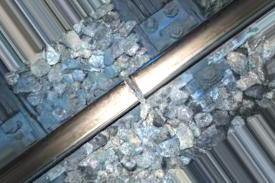tracks_fault: (109, 60, 154, 119)
